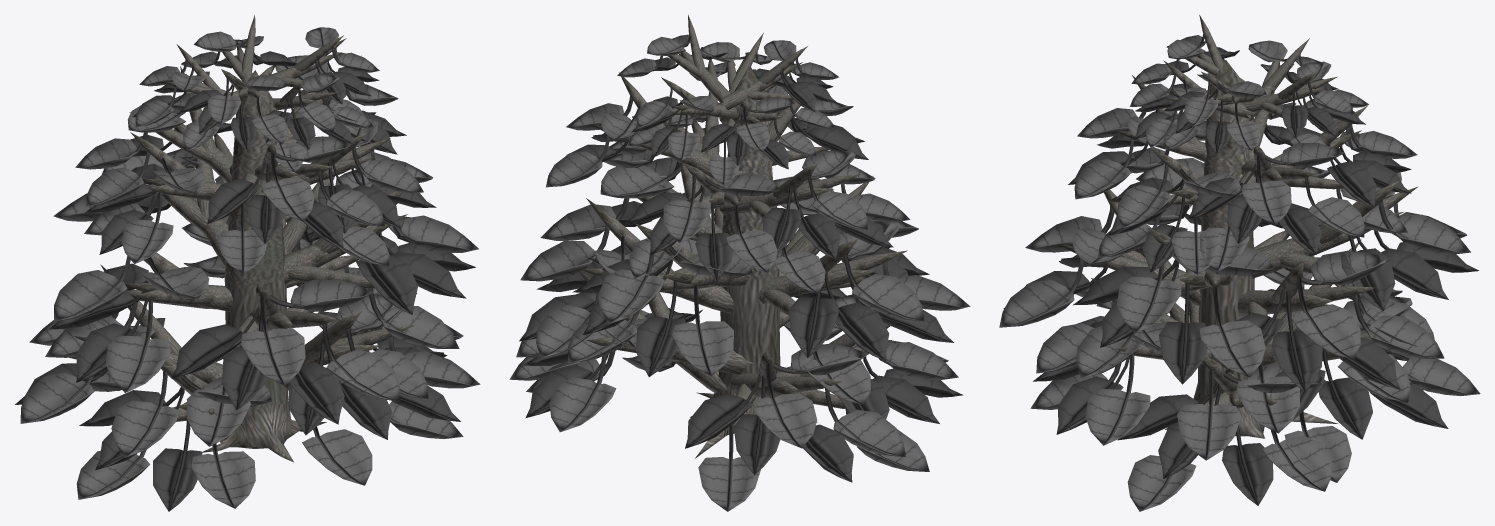
Rendered from Bush.fbx.
3 views of the same model, side by side, from view 1: azimuth 30°, elevation 25°; view 2: azimuth 150°, elevation 25°; view 3: azimuth 270°, elevation 25° (orthographic). The views are drawn at different scales.
Visible parts, largest first — view 1: Plane_001, Plane_001_018, Plane_001_014, Plane_001_025, Plane_001_026, Plane_001_013, Plane_001_031, Plane_001_017, Plane_003, Plane_001_021, Plane_001_008, Cube_019 (+78 smaller); view 2: Plane_001 (×2), Plane_001_002, Plane_005, Plane_001_022, Plane_001_037, Plane_001_023, Plane_001_001, Plane_001_021, Plane_001_017, Cube_014, Plane_014, Plane_001_006 (+78 smaller); view 3: Plane_001 (×2), Plane_001_033, Plane_001_029, Plane_001_010, Plane_001_009, Plane_001_006, Plane_002, Plane_000, Plane_001_013, Plane_001_034, Cube_007, Plane_001_007 (+72 smaller).
Part boxes in pixels (x1,y1,x2,y2): Plane_001: (202, 70, 326, 462); Plane_001_018: (105, 300, 170, 392); Plane_001_014: (241, 296, 305, 385); Plane_001_025: (111, 371, 179, 457); Plane_001_026: (191, 443, 255, 508); Plane_001_013: (322, 323, 399, 401); Plane_001_031: (302, 426, 372, 485); Plane_001_017: (54, 256, 130, 321); Plane_003: (283, 191, 407, 288); Plane_001_021: (20, 372, 94, 423); Plane_001_008: (368, 288, 459, 348); Cube_019: (153, 419, 202, 511); Plane_001 (×2): (568, 66, 817, 458); Plane_001_002: (672, 285, 733, 376); Plane_005: (759, 238, 907, 315); Plane_001_022: (752, 364, 817, 448); Plane_001_037: (549, 354, 616, 432); Plane_001_023: (698, 424, 760, 511); Plane_001_001: (598, 243, 664, 323); Plane_001_021: (825, 388, 905, 456); Plane_001_017: (844, 254, 924, 321); Cube_014: (789, 289, 838, 357); Plane_014: (719, 163, 859, 218); Plane_001_006: (520, 225, 609, 281); Plane_001 (×2): (1193, 60, 1434, 438); Plane_001_033: (1177, 370, 1241, 460); Plane_001_029: (1085, 354, 1150, 445); Plane_001_010: (1199, 286, 1265, 377); Plane_001_009: (1117, 264, 1181, 333); Plane_001_006: (1291, 277, 1360, 359); Plane_002: (1237, 262, 1375, 315); Plane_000: (1252, 180, 1417, 278); Plane_001_013: (999, 258, 1083, 327); Plane_001_034: (1262, 430, 1331, 491); Cube_007: (1159, 283, 1207, 384); Plane_001_007: (1236, 361, 1299, 433).
Size of the model in its own units: 1.2 by 1.24 by 1.15.
Materials: 3 (3 with a texture image).
